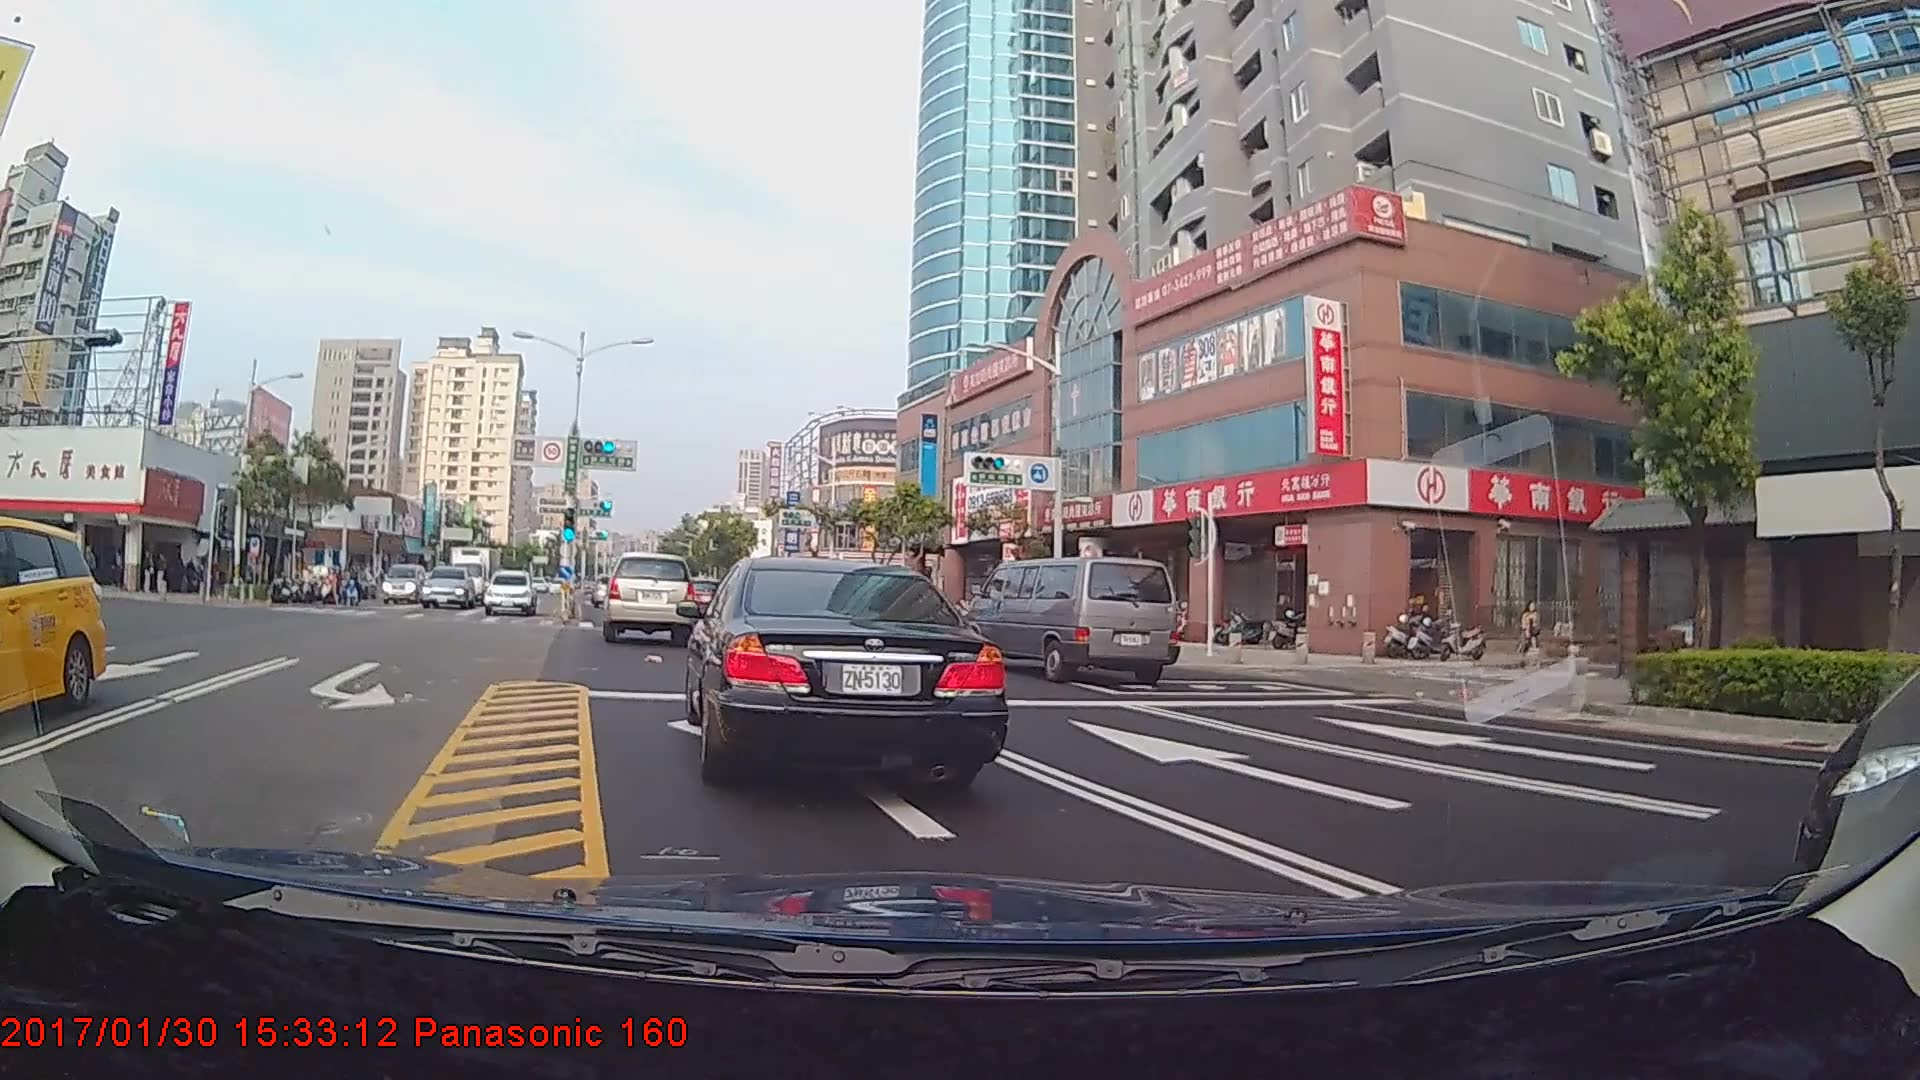pedestrian: (1522, 599, 1543, 662)
vehicle: (690, 546, 1003, 784), (963, 554, 1176, 683), (0, 516, 105, 729), (602, 552, 693, 640), (448, 541, 502, 602), (421, 565, 478, 610), (485, 568, 538, 617), (377, 561, 427, 605)
